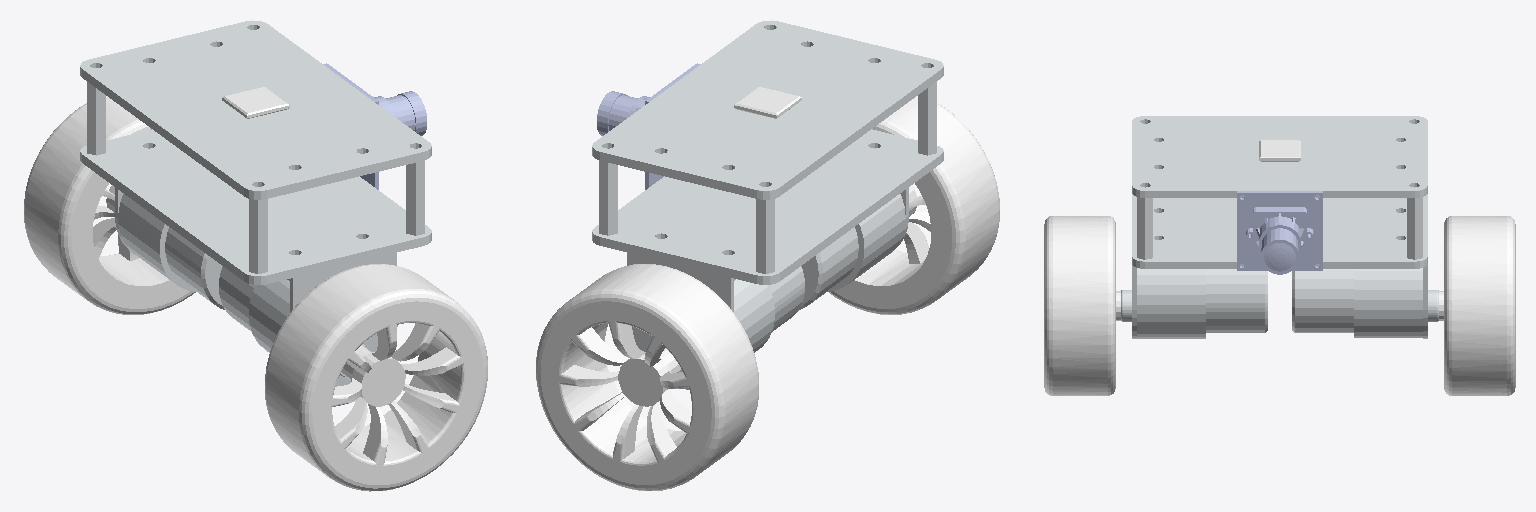
robot.urdf — fishbot:
<?xml version="1.0" encoding="utf-8"?>
<!-- This URDF was automatically created by SolidWorks to URDF Exporter! Originally created by [author] ([email redacted]) 
     Commit Version: 1.6.0-4-g7f85cfe  Build Version: 1.6.7995.38578
     For more information, please see http://wiki.ros.org/sw_urdf_exporter -->
<robot name="fishbot">

  <!-- Robot Footprint -->
  <link name="base_footprint"/>
  <joint name="base_joint" type="fixed">
    <parent link="base_footprint"/>
    <child link="base_link"/>
    <origin xyz="0.0 0.0 0.066" rpy="0 0 0"/>
  </joint>

  <!-- Base link -->
  <link name="base_link">
    <inertial>
      <origin xyz="5.5511E-17 -4.3368E-18 -0.014001" rpy="0 0 0" />
      <mass value="0.41196" />
      <inertia ixx="0.00020336" ixy="-2.5099E-20" ixz="5.1812E-21" iyy="9.0052E-05" iyz="-1.363E-22" izz="0.00024415" />
    </inertial>
    <visual>
      <origin xyz="0 0 0" rpy="0 0 0" />
      <geometry>
        <mesh filename="package://fishbot_description/meshes/base_link.STL" />
      </geometry>
      <material name="">
        <color rgba="0.89804 0.91765 0.92941 1" />
      </material>
    </visual>
    <collision>
      <origin xyz="0 0 0" rpy="0 0 0" />
      <geometry>
        <mesh filename="package://fishbot_description/meshes/base_link.STL" />
      </geometry>
    </collision>
  </link>

  <link name="leftwheel_link">
    <inertial>
      <origin xyz="2.5134E-09 -0.0039664 -4.6993E-09" rpy="0 0 0" />
      <mass value="0.051111" />
      <inertia ixx="2.2477E-05" ixy="-1.2547E-13" ixz="-2.7101E-13" iyy="3.9119E-05" iyz="2.3458E-13" izz="2.2477E-05" />
    </inertial>
    <visual>
      <origin xyz="0 0 0" rpy="0 0 0" />
      <geometry>
        <mesh filename="package://fishbot_description/meshes/leftwheel_link.STL" />
      </geometry>
      <material name="">
        <color rgba="1 1 1 1" />
      </material>
    </visual>
    <collision>
      <origin xyz="0 0 0" rpy="0 0 0" />
      <geometry>
        <mesh filename="package://fishbot_description/meshes/leftwheel_link.STL" />
      </geometry>
    </collision>
  </link>

  <joint name="leftwheel_joint" type="continuous">
    <origin xyz="0 0.0785 -0.0335" rpy="0 0 0" />
    <parent link="base_link" />
    <child link="leftwheel_link" />
    <axis xyz="0 1 0" />
  </joint>

  <link name="rightwheel_link">
    <inertial>
      <origin xyz="3.7223E-09 0.0039664 -3.8138E-09" rpy="0 0 0" />
      <mass value="0.051111" />
      <inertia ixx="2.2477E-05" ixy="1.8581E-13" ixz="-3.2573E-13" iyy="3.9119E-05" iyz="-1.9038E-13" izz="2.2477E-05" />
    </inertial>
    <visual>
      <origin xyz="0 0 0" rpy="0 0 0" />
      <geometry>
        <mesh filename="package://fishbot_description/meshes/rightwheel_link.STL" />
      </geometry>
      <material name="">
        <color rgba="1 1 1 1" />
      </material>
    </visual>
    <collision>
      <origin xyz="0 0 0" rpy="0 0 0" />
      <geometry>
        <mesh filename="package://fishbot_description/meshes/rightwheel_link.STL" />
      </geometry>
    </collision>
  </link>

  <joint name="rightwheel_joint" type="continuous">
    <origin xyz="0 -0.0785 -0.0335" rpy="0 0 0" />
    <parent link="base_link" />
    <child link="rightwheel_link" />
    <axis xyz="0 -1 0" />
  </joint>

  <link name="camera_link">
    <inertial>
      <origin xyz="-0.011636 -4.7705E-18 0" rpy="0 0 0" />
      <mass value="0.0064397" />
      <inertia ixx="4.5912E-07" ixy="4.8691E-22" ixz="5.5251E-25" iyy="5.6822E-07" iyz="-5.0003E-23" izz="5.7269E-07"/>
    </inertial>
    <visual>
      <origin xyz="0 0 0" rpy="0 0 0"/>
      <geometry>
        <mesh filename="package://fishbot_description/meshes/camera_link.STL"/>
      </geometry>
      <material name="">
        <color rgba="0.79216 0.81961 0.93333 1" />
      </material>
    </visual>
    <collision>
      <origin xyz="0 0 0" rpy="0 0 0" />
      <geometry>
        <mesh filename="package://fishbot_description/meshes/camera_link.STL" />
      </geometry>
    </collision>
  </link>

  <joint name="camera_joint" type="fixed">
    <origin xyz="0.0529 0 0.013" rpy="0 0 0" />
    <parent link="base_link" />
    <child link="camera_link" />
    <axis xyz="0 0 0" />
  </joint>

  <link name="imu_link">
    <inertial>
      <origin xyz="5.5511E-17 4.3368E-17 0.001" rpy="0 0 0" />
      <mass value="0.00044961" />
      <inertia ixx="8.5824E-09" ixy="-5.284E-25" ixz="-1.2622E-26" iyy="8.5824E-09" iyz="-9.8608E-27" izz="1.6876E-08" />
    </inertial>
    <visual>
      <origin xyz="0 0 0" rpy="0 0 0" />
      <geometry>
        <mesh filename="package://fishbot_description/meshes/imu_link.STL" />
      </geometry>
      <material name="">
        <color rgba="1 1 1 1" />
      </material>
    </visual>
    <collision>
      <origin xyz="0 0 0" rpy="0 0 0" />
      <geometry>
        <mesh filename="package://fishbot_description/meshes/imu_link.STL" />
      </geometry>
    </collision>
  </link>

  <joint name="imu_joint" type="fixed">
    <origin xyz="0 0 0.029" rpy="0 0 0" />
    <parent link="base_link" />
    <child link="imu_link" />
    <axis xyz="0 0 0" />
  </joint>

</robot>

--- Render facts (derived) ---
Views: 3 orthographic renders of the robot side by side, from view 1: azimuth 30°, elevation 25°; view 2: azimuth 150°, elevation 25°; view 3: azimuth 270°, elevation 25°.
Robot: fishbot — 6 links, 5 joints (2 continuous, 3 fixed); root link base_footprint; default pose: every joint at zero.
Links seen in each view (by area): view 1: base_link, rightwheel_link, leftwheel_link, camera_link, imu_link; view 2: base_link, leftwheel_link, rightwheel_link, camera_link, imu_link; view 3: base_link, leftwheel_link, rightwheel_link, camera_link, imu_link.
Boxes of the visible links, x1,y1,x2,y2 form: base_link: [80, 20, 431, 386]; rightwheel_link: [265, 264, 487, 491]; leftwheel_link: [24, 96, 195, 314]; camera_link: [323, 63, 426, 189]; imu_link: [222, 87, 289, 118]; base_link: [592, 20, 943, 389]; leftwheel_link: [536, 264, 758, 490]; rightwheel_link: [829, 96, 999, 314]; camera_link: [597, 63, 700, 189]; imu_link: [734, 87, 801, 118]; base_link: [1121, 116, 1438, 338]; leftwheel_link: [1439, 216, 1515, 395]; rightwheel_link: [1044, 216, 1120, 395]; camera_link: [1237, 191, 1322, 274]; imu_link: [1259, 140, 1300, 161].
Size in the robot's own frame: 0.091 by 0.175 by 0.098 metres.
Meshes: 5 distinct files referenced, 5 mesh visuals loaded (5 binary STL).